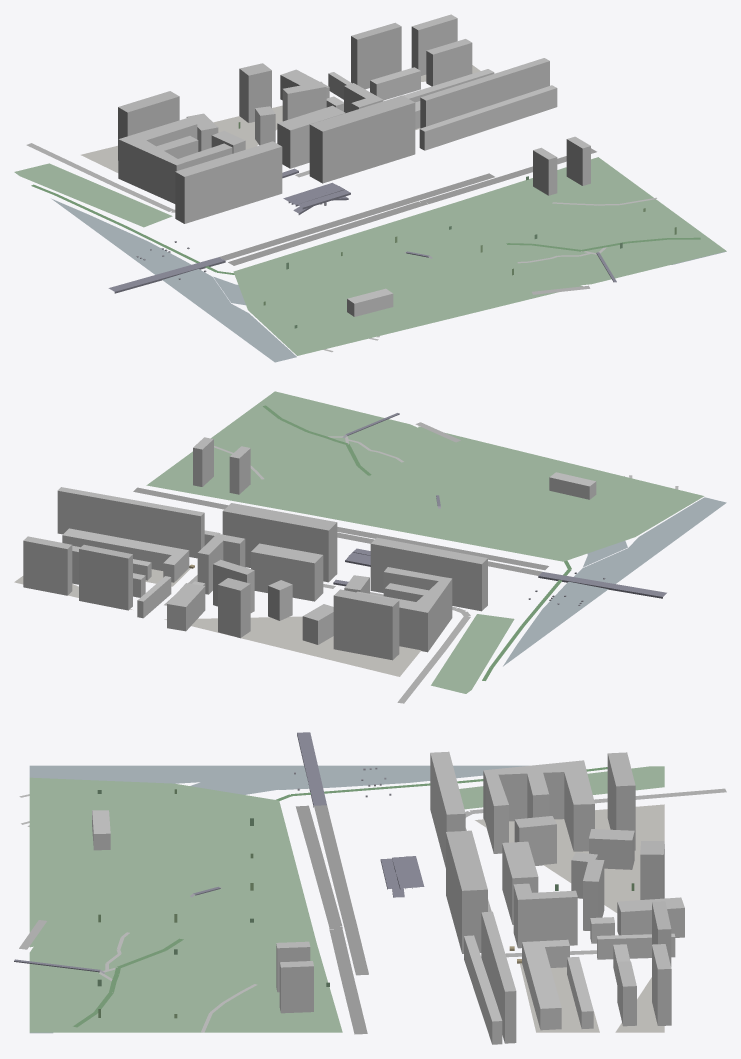
The picture shows the model from 3 angles, top to bottom: view 1: azimuth 30°, elevation 25°; view 2: azimuth 150°, elevation 25°; view 3: azimuth 270°, elevation 25°; orthographic projection. The views are drawn at different scales.
Size of the model in its own units: 579 by 59.28 by 562.
